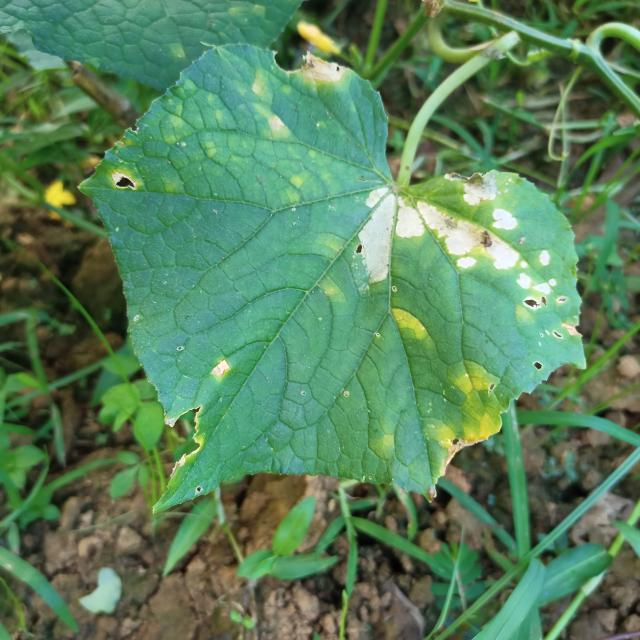disease_cucumber: (354, 175, 570, 308), (422, 361, 503, 452), (250, 78, 292, 145), (388, 306, 433, 346)
